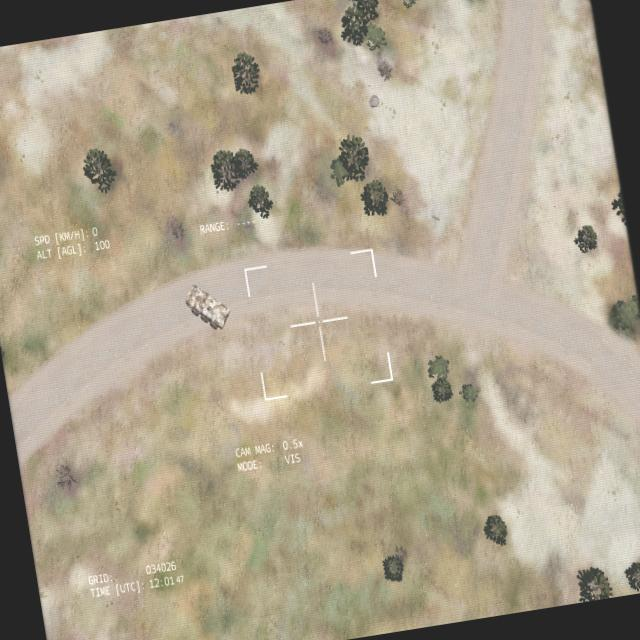apc: (181, 278, 233, 336)
